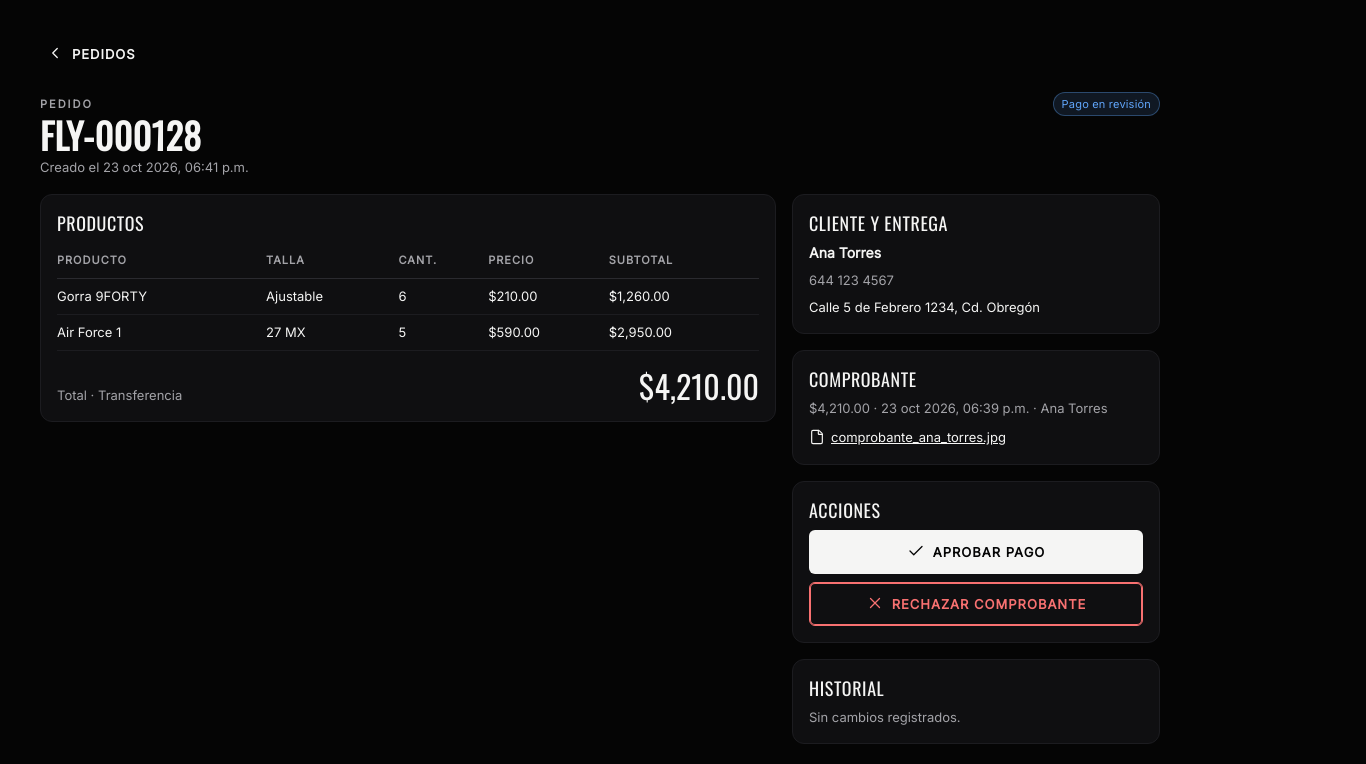
Test: DetallePedidoVista · Front 3 · validar pago › si otra persona ya cambió el pedido (409) lo recarga, cierra el diálogo y muestra el motivo
This screenshot has width=1366, height=764.
expect the heading "FLY-000128" is shown: met, box [40,108,201,161]
Click the button "Aprobar pago".
click(976, 552)  # box [809,530,1143,574]
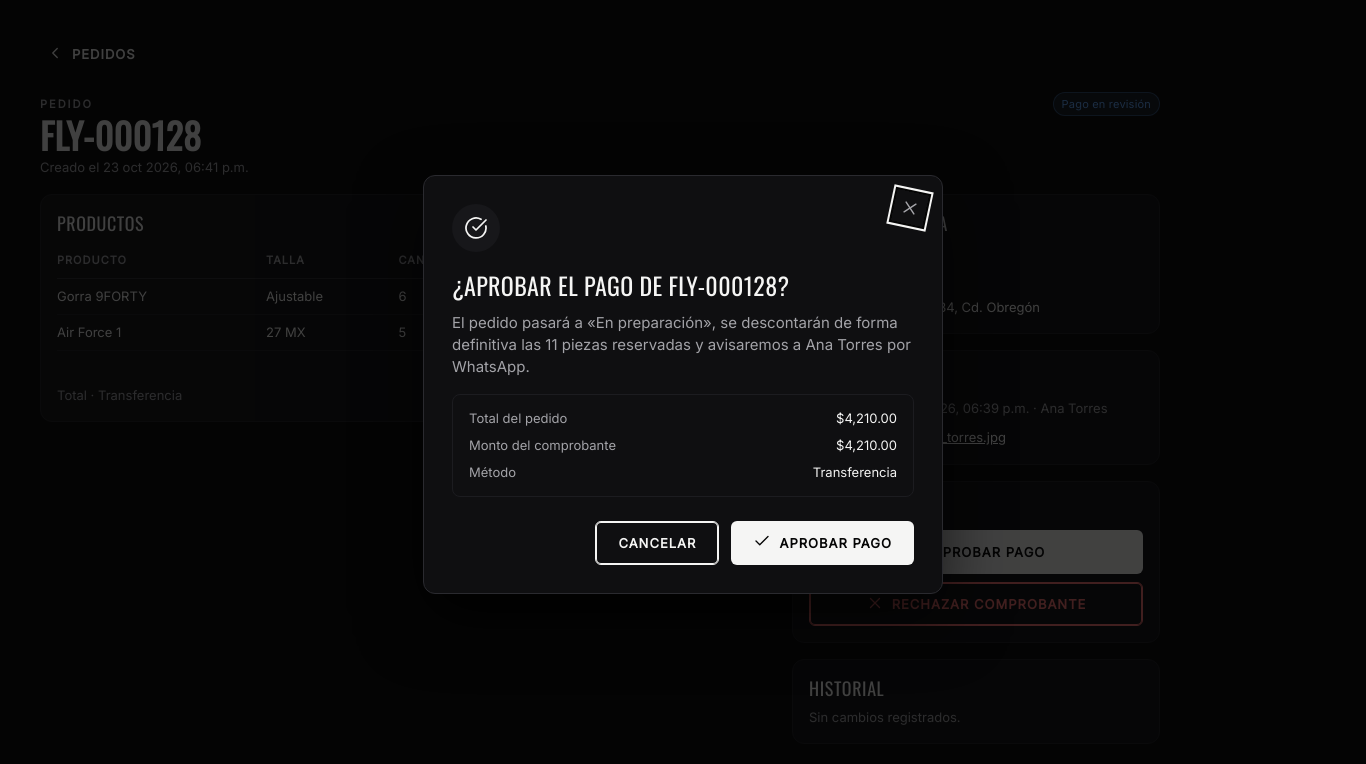
Click the button "Aprobar pago".
click(823, 542)  # box [731,520,914,564]
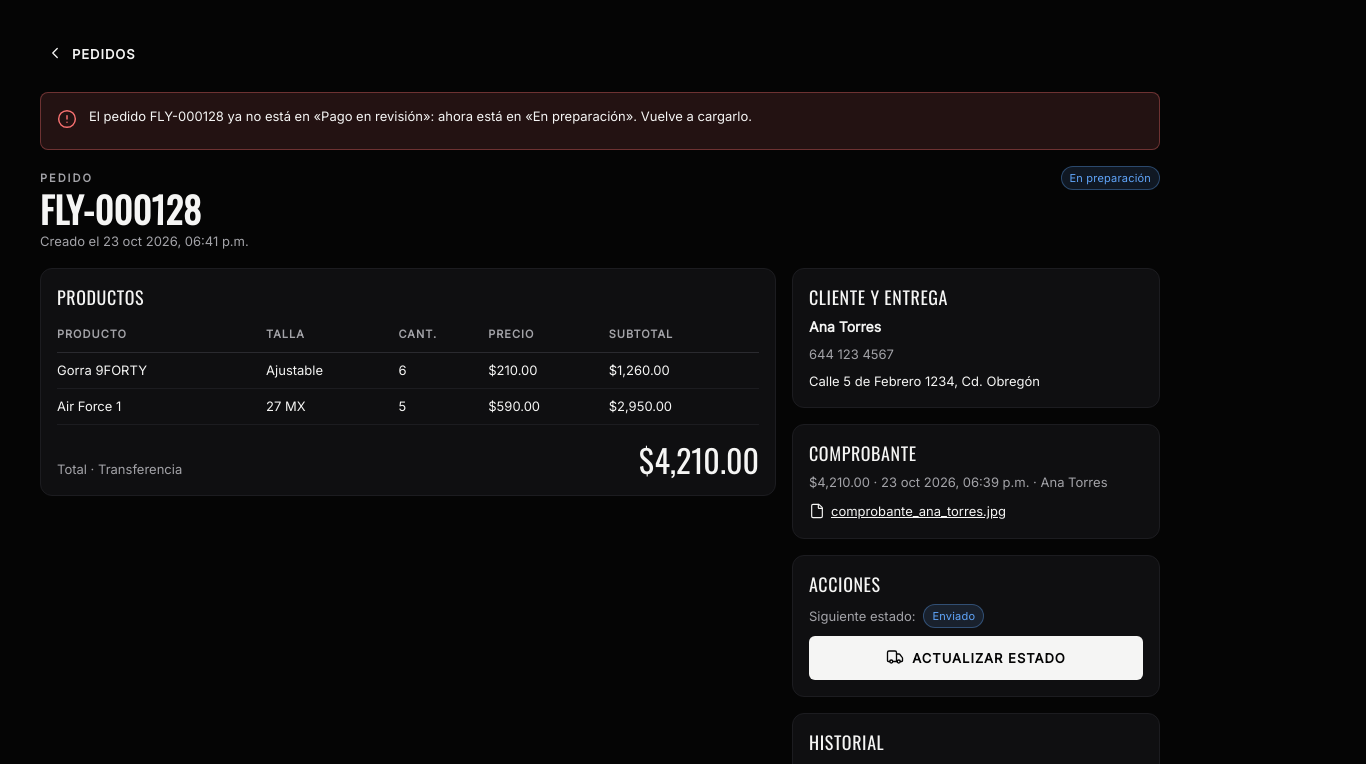
expect the text "El pedido FLY-000128 ya no está en «Pago en revisión»: ahora está en «En preparación». Vuelve a cargarlo." is shown: met, box [89,108,752,124]
expect the button "Aprobar pago" is gone: met
expect the button "Actualizar estado" is shown: met, box [809,636,1143,680]
